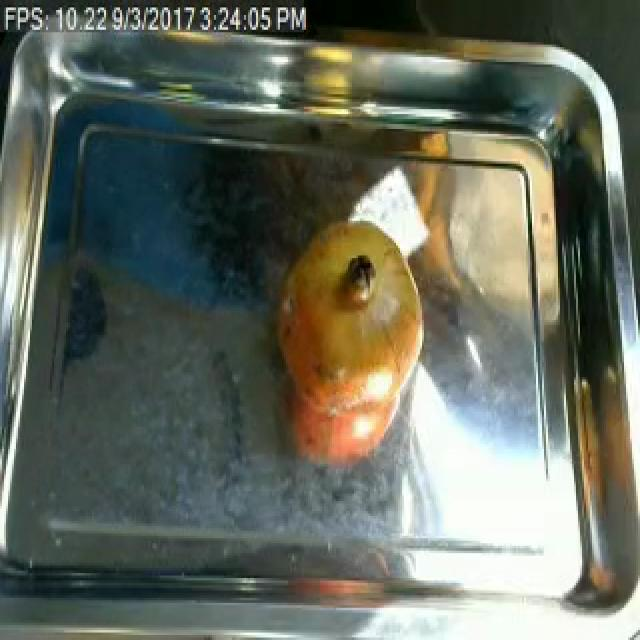fruit: (264, 206, 436, 436)
